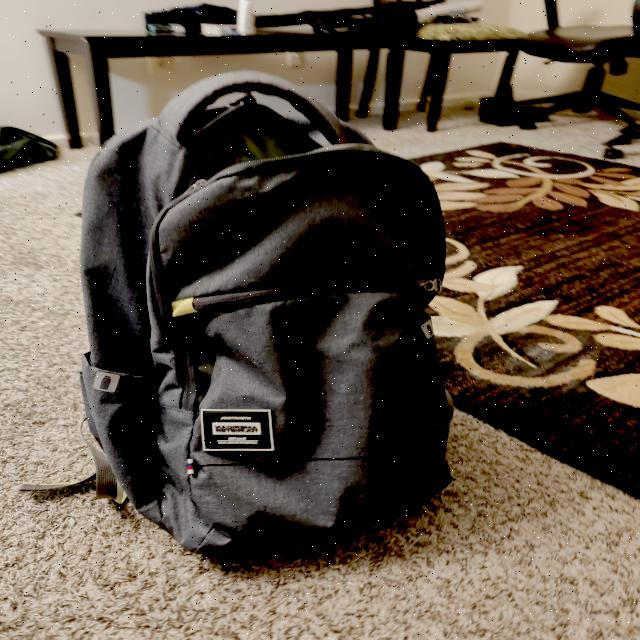bag: (62, 78, 450, 563)
